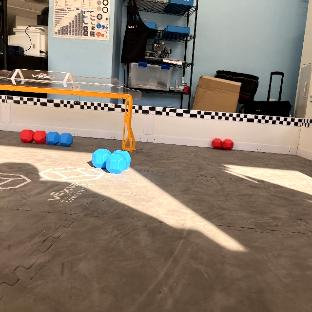Goal: (0, 70, 140, 150)
V5_BLUE: (92, 149, 130, 173), (47, 133, 72, 146)
V5_RED: (21, 129, 46, 144), (212, 138, 232, 150)
